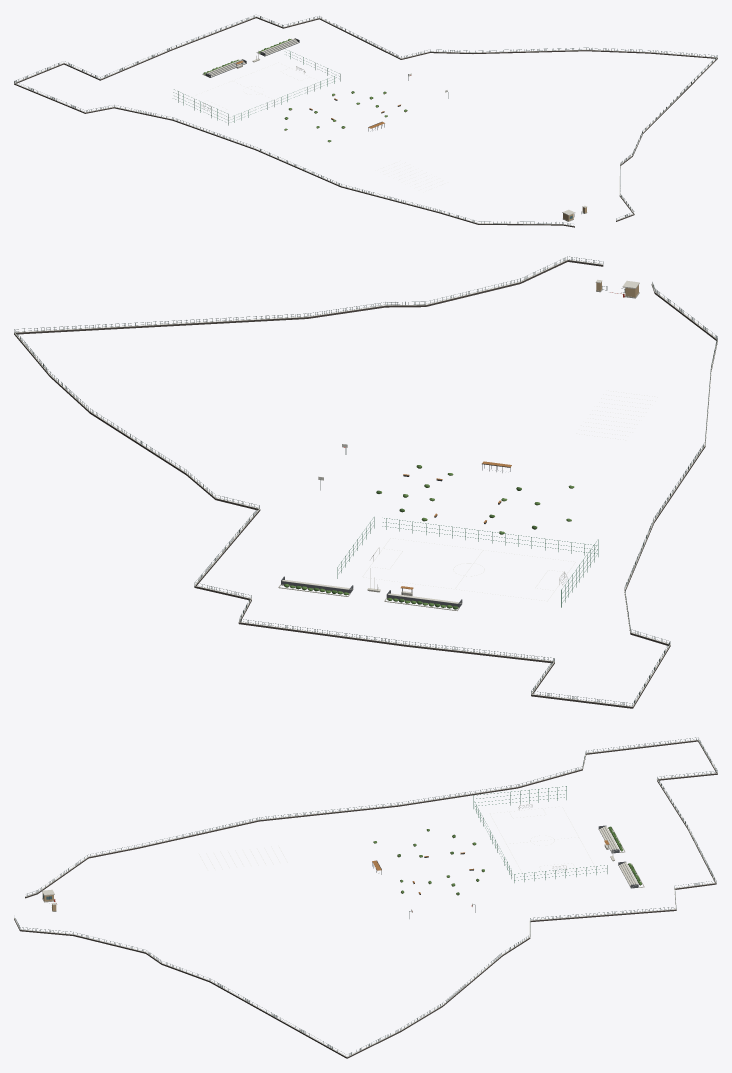
3 views of the same model, one above another, from view 1: azimuth 30°, elevation 25°; view 2: azimuth 150°, elevation 25°; view 3: azimuth 270°, elevation 25° (orthographic). The views are drawn at different scales.
Visible parts, largest first — view 1: prop_boundary-fence, prop_flagpoles, prop_flowerbeds; view 2: prop_boundary-fence, prop_flowerbeds, prop_flagpoles, prop_backstop-fence; view 3: prop_boundary-fence, prop_flagpoles, prop_backstop-fence.
Part boxes in pixels (bbox=[...]): prop_boundary-fence: bbox=[14, 15, 717, 227]; prop_flagpoles: bbox=[205, 38, 299, 77]; prop_flowerbeds: bbox=[202, 38, 407, 142]; prop_boundary-fence: bbox=[14, 256, 717, 708]; prop_flowerbeds: bbox=[278, 465, 574, 610]; prop_flagpoles: bbox=[281, 568, 462, 607]; prop_backstop-fence: bbox=[337, 517, 598, 607]; prop_boundary-fence: bbox=[14, 737, 717, 1058]; prop_flagpoles: bbox=[598, 825, 638, 888]; prop_backstop-fence: bbox=[473, 786, 607, 882].
Size of the model in its own units: 283 by 8.2 by 265.
